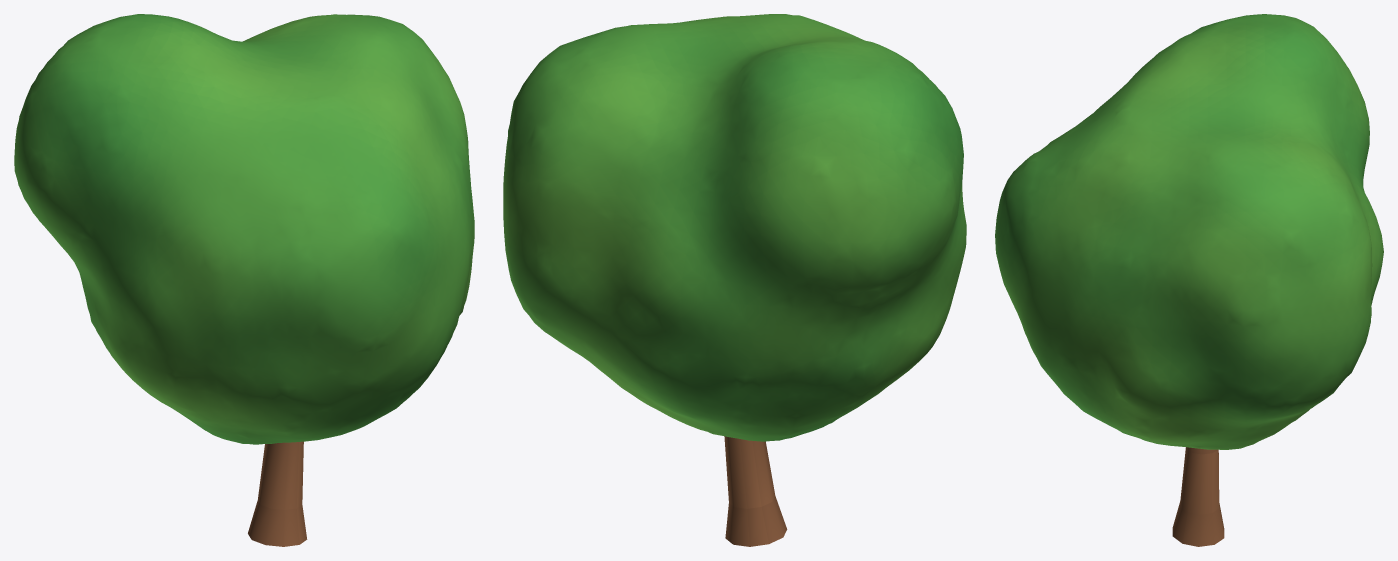
Rendered from tree_apple.glb.
The picture shows the model from 3 angles, left to right: view 1: azimuth 30°, elevation 25°; view 2: azimuth 150°, elevation 25°; view 3: azimuth 270°, elevation 25°; orthographic projection. The views are drawn at different scales.
Parts seen in each view (by area): view 1: tree_apple_crown, tree_apple_trunk; view 2: tree_apple_crown, tree_apple_trunk; view 3: tree_apple_crown, tree_apple_trunk.
Part boxes in pixels (x1,y1,x2,y2): tree_apple_crown: (14, 14, 474, 444); tree_apple_trunk: (248, 441, 307, 546); tree_apple_crown: (503, 14, 966, 441); tree_apple_trunk: (724, 436, 787, 546); tree_apple_crown: (995, 14, 1383, 449); tree_apple_trunk: (1172, 447, 1224, 546).
Bounding box in the file's own units: 3.34 × 3.94 × 3.
